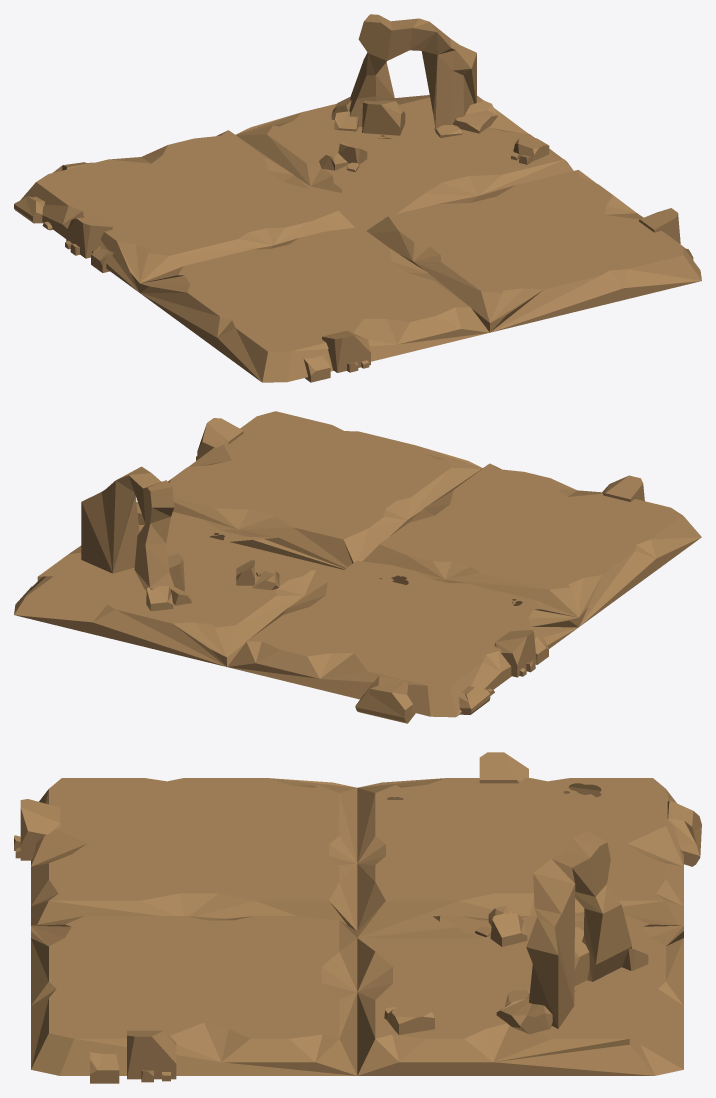
The model's file is stage_optimized.glb.
3 views of the same model, one above another, from view 1: azimuth 30°, elevation 25°; view 2: azimuth 150°, elevation 25°; view 3: azimuth 270°, elevation 25° (orthographic). The views are drawn at different scales.
Parts seen in each view (by area): view 1: Object_19; view 2: Object_19; view 3: Object_19.
Part boxes in pixels (x1,y1,x2,y2): Object_19: (14,14,701,382); Object_19: (14,411,701,723); Object_19: (14,752,701,1083).
Bounding box in the file's own units: 21 × 5.97 × 21.07.
